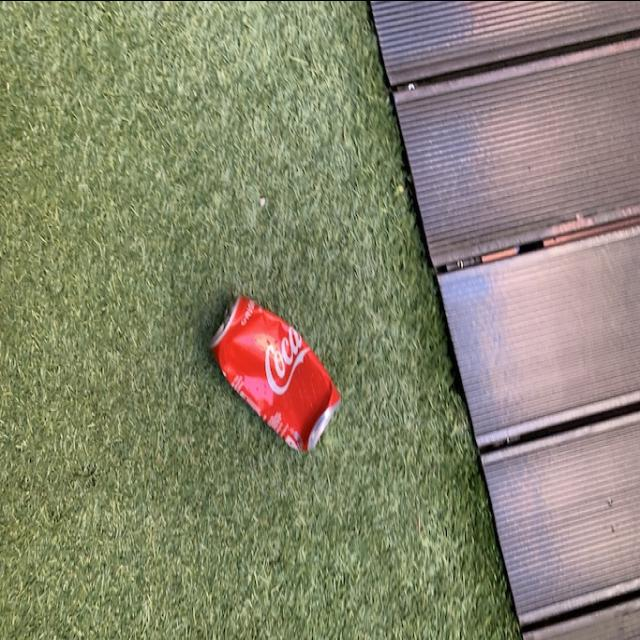litter: (209, 284, 349, 455)
